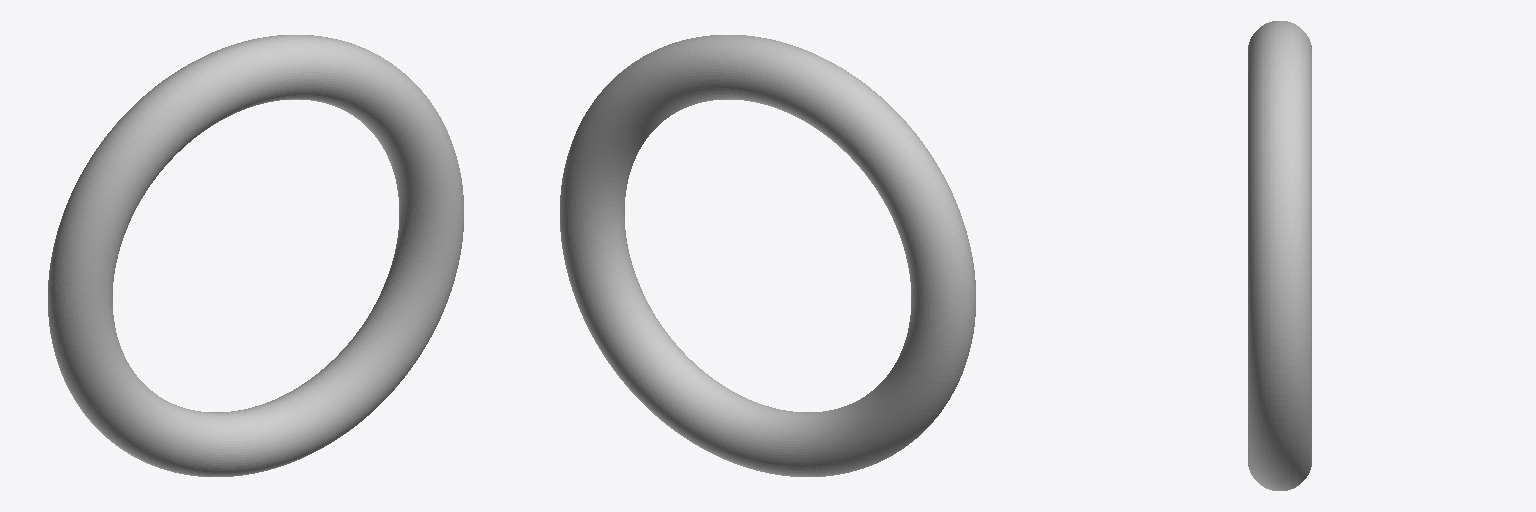
The model's file is ACE 20 B_joint.obj.
The picture shows the model from 3 angles: view 1: azimuth 30°, elevation 25°; view 2: azimuth 150°, elevation 25°; view 3: azimuth 270°, elevation 25°; orthographic projection.
Visible parts, largest first — view 1: Solide1:3; view 2: Solide1:3; view 3: Solide1:3.
Boxes of the visible parts, <box> form: Solide1:3: <box>48,35,463,476</box>; Solide1:3: <box>560,35,975,476</box>; Solide1:3: <box>1248,21,1311,490</box>.
Bounding box in the file's own units: 29 × 29 × 4.